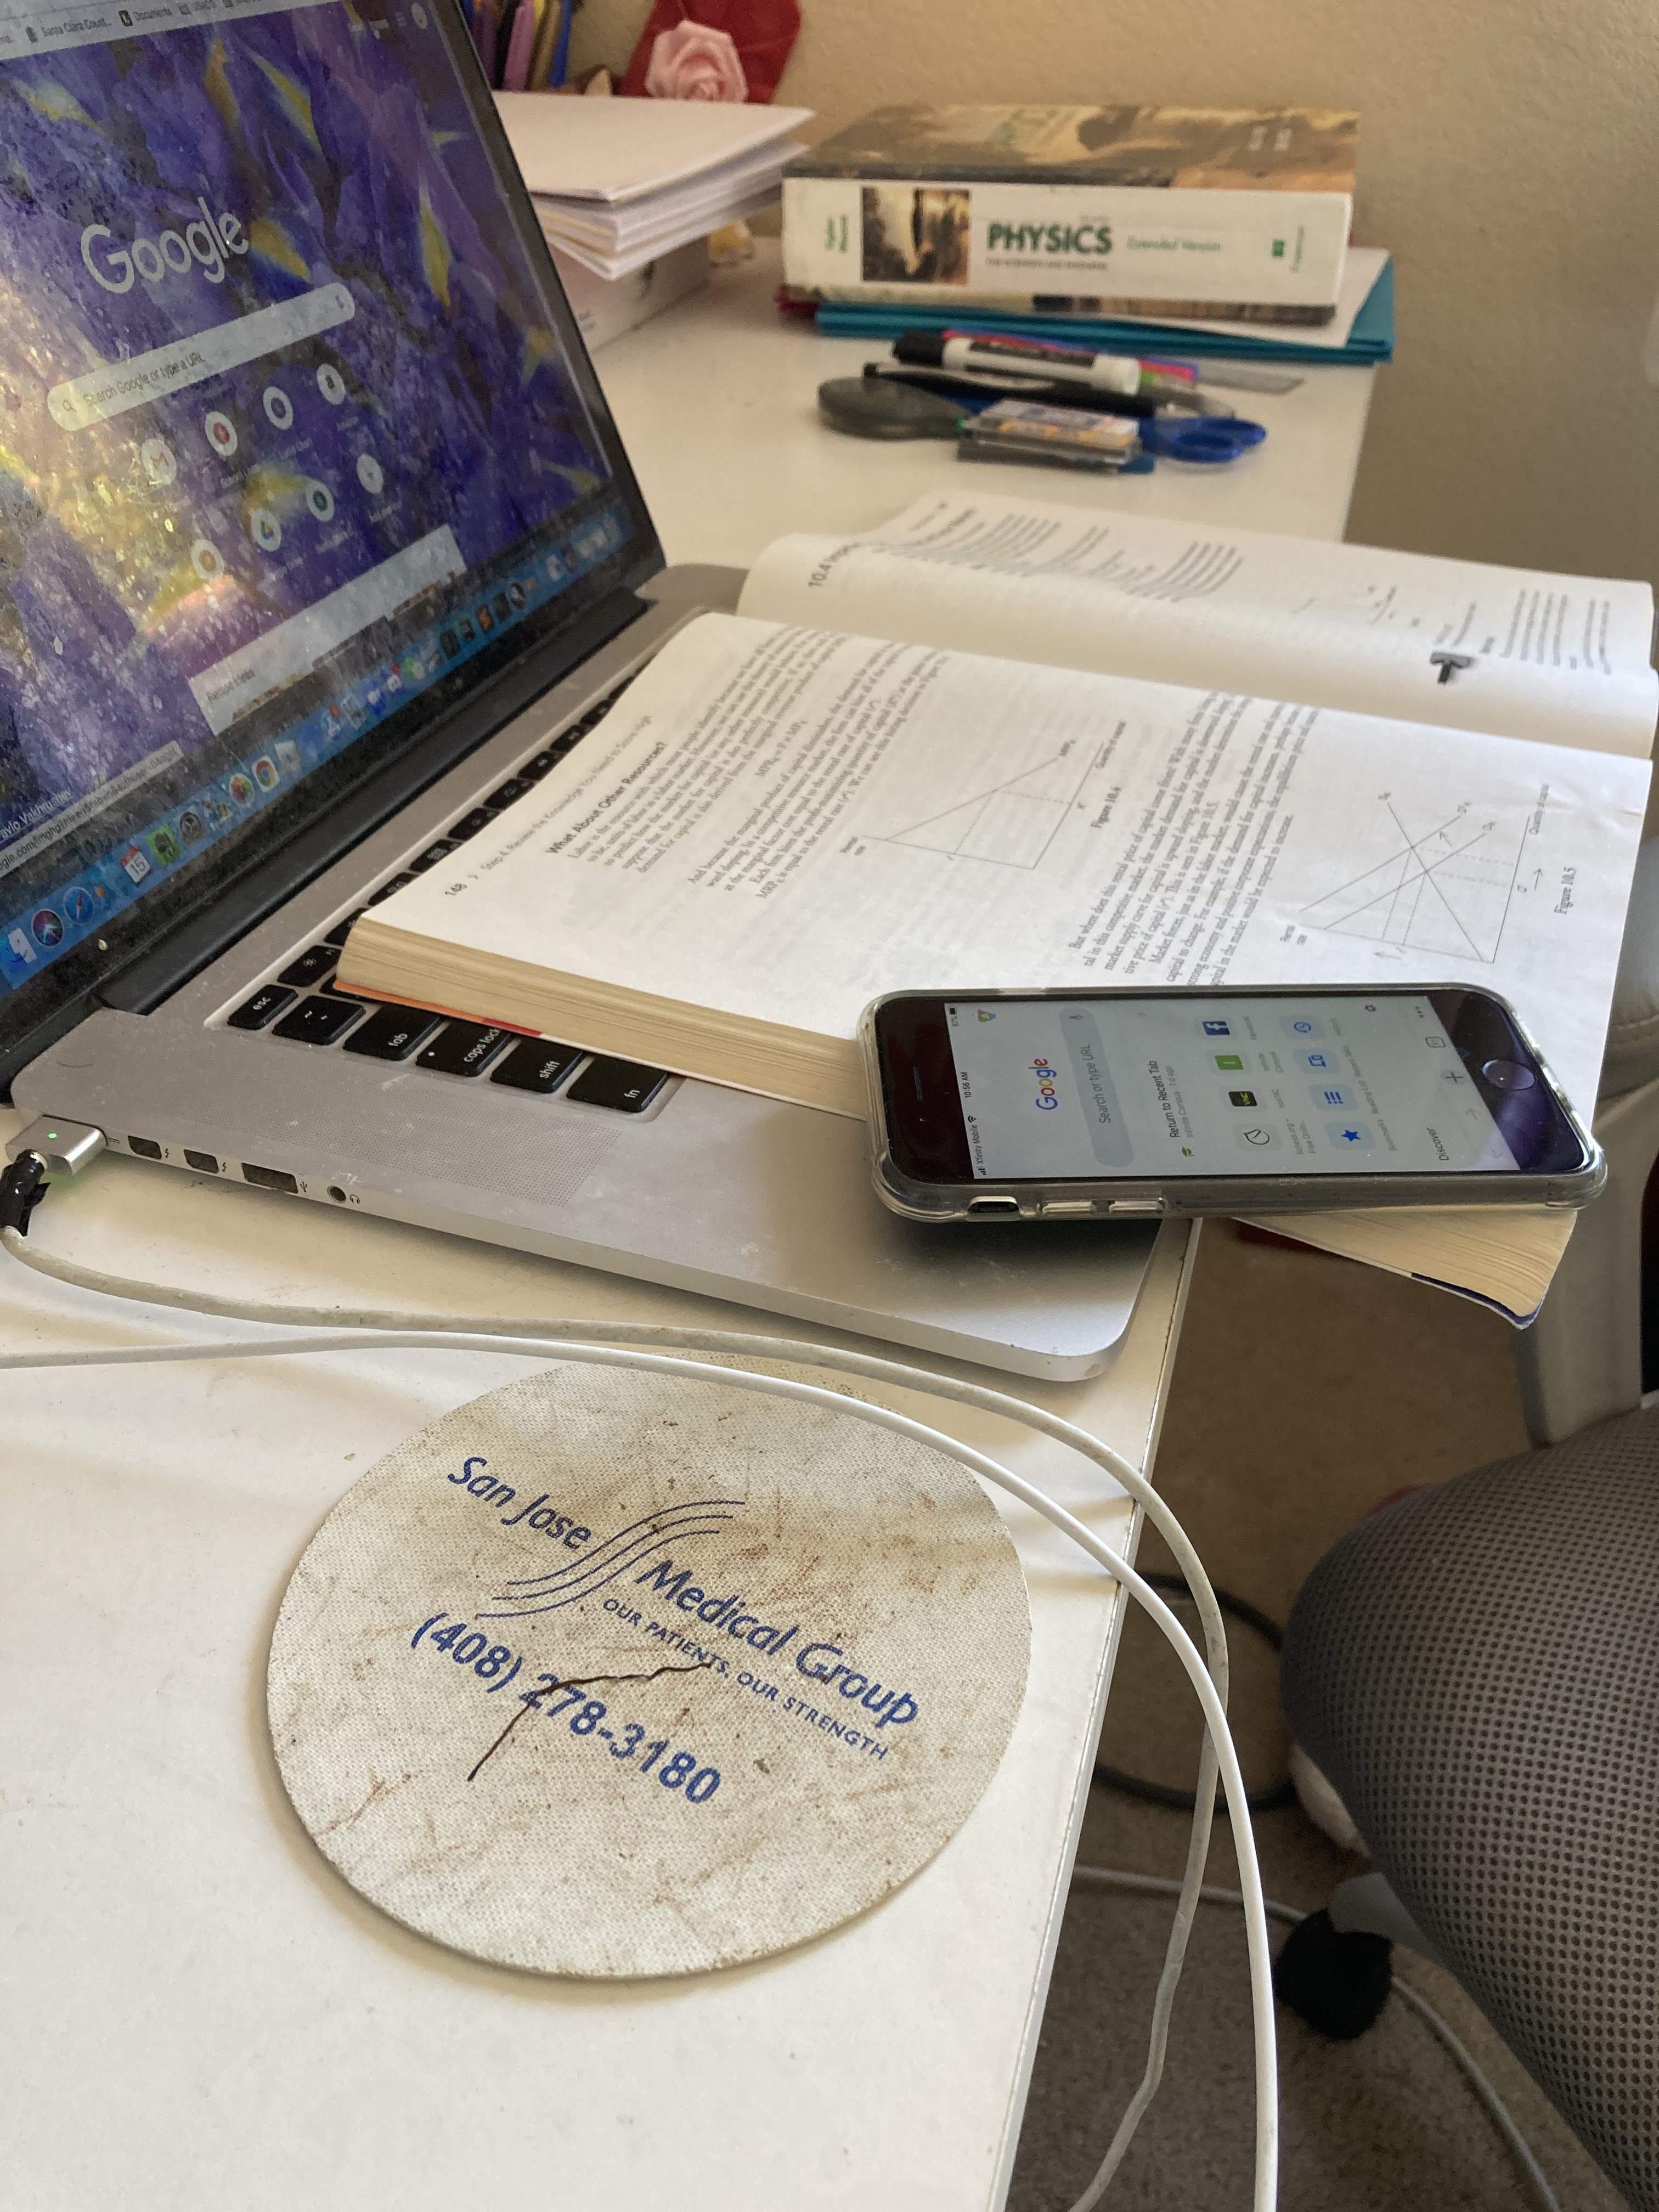Cell Phone: (863, 974, 1619, 1221)
Open Book: (329, 484, 1659, 1312)
